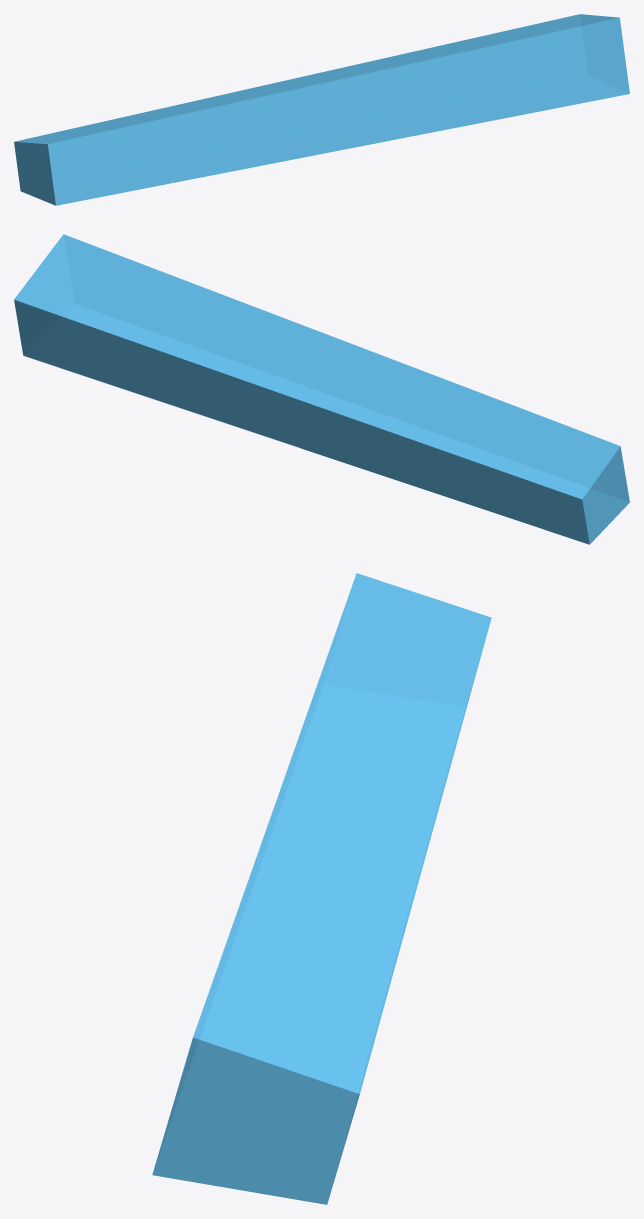
Rendered from Event_420094457_HErechit_46.fbx.
3 renders of one model, top to bottom at view 1: azimuth 30°, elevation 25°; view 2: azimuth 150°, elevation 25°; view 3: azimuth 270°, elevation 25°, orthographic. The views are drawn at different scales.
Parts seen in each view (by area): view 1: Model; view 2: Model; view 3: Model.
Boxes of the visible parts, <box> form: Model: <box>14,14,629,205</box>; Model: <box>14,234,629,544</box>; Model: <box>152,573,491,1204</box>.
Size of the model in its own units: 2.44 by 0.4108 by 0.673.
